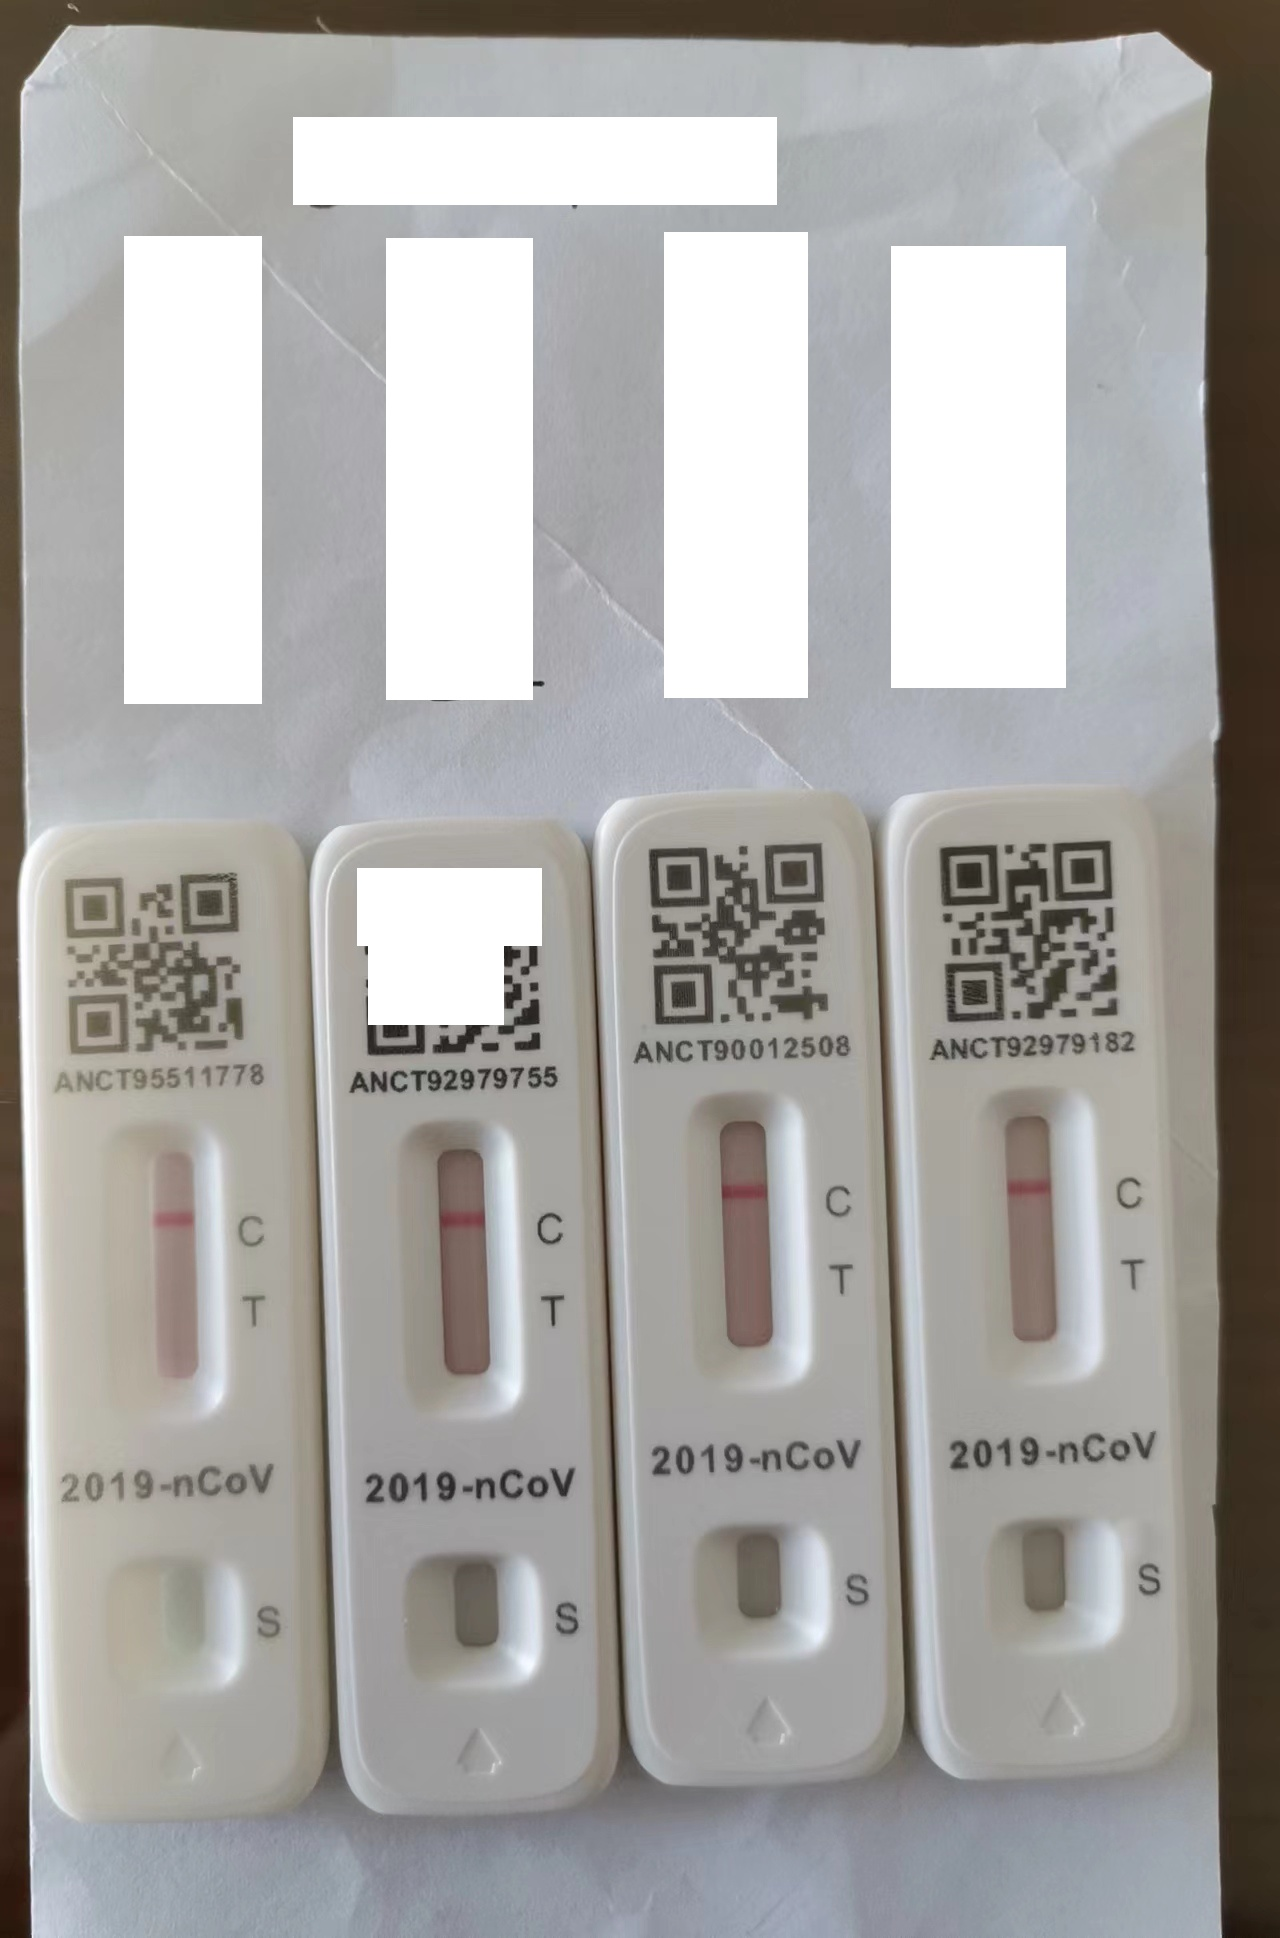negative: (399, 1123, 520, 1417), (974, 1085, 1089, 1387), (116, 1120, 226, 1420), (689, 1108, 803, 1395)
